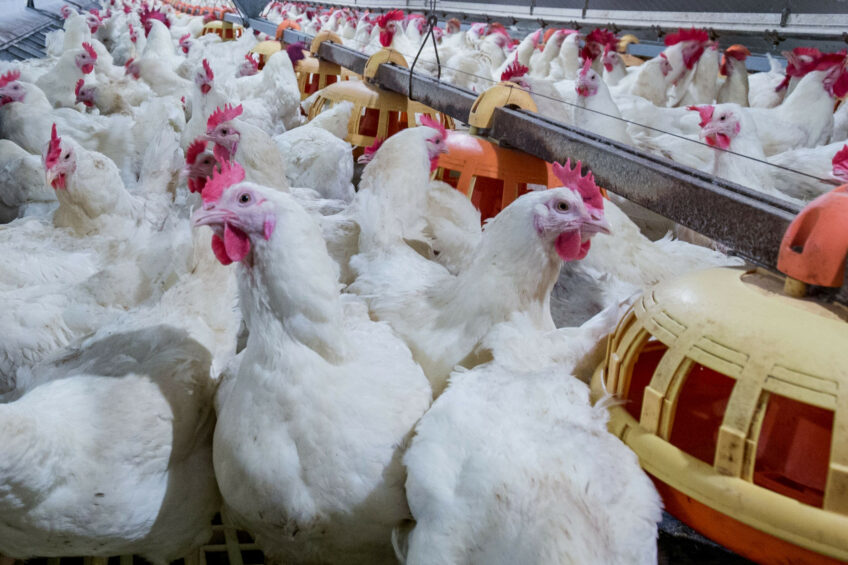Healthy: (179, 162, 440, 549), (364, 168, 629, 363)
